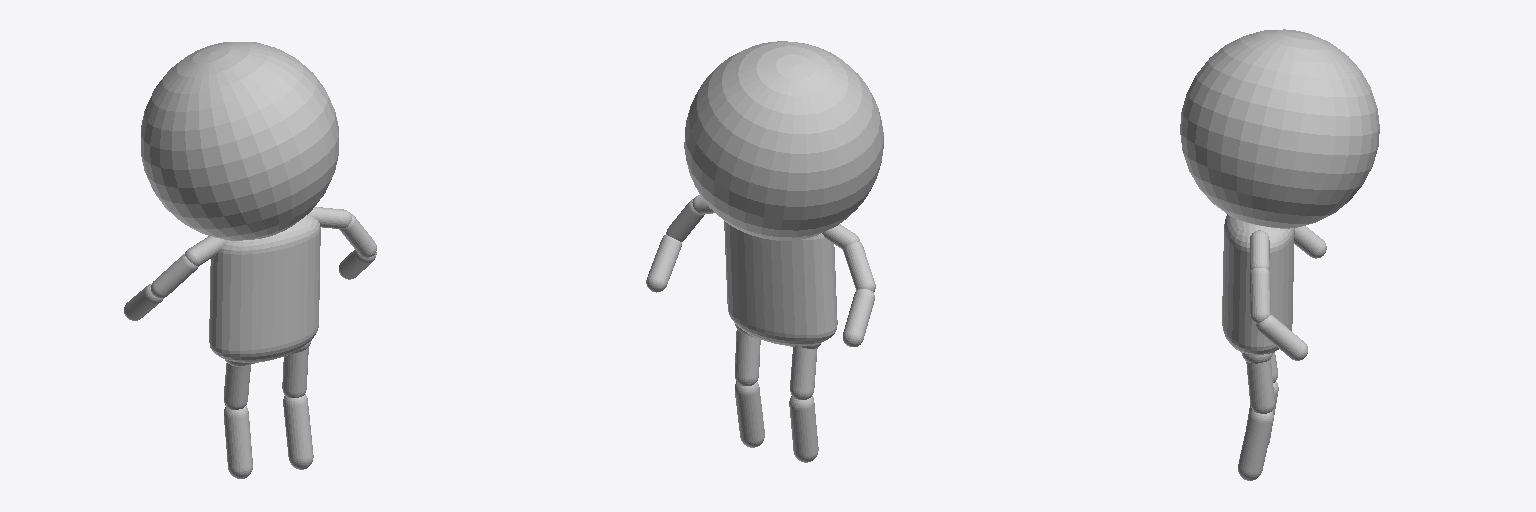
File: Stickman_000076.obj
The picture shows the model from 3 angles: view 1: azimuth 30°, elevation 25°; view 2: azimuth 150°, elevation 25°; view 3: azimuth 270°, elevation 25°; orthographic projection.
Parts seen in each view (by area): view 1: Head_Sphere.001, Body_Roundcube.002, LowerLegLeft_Roundcube.013, LowerLegRight_Roundcube.011, UpperLegLeft_Roundcube.012, UpperLegRight_Roundcube.010, UpperArmRight_Roundcube.015, UpperArmLeft_Roundcube.018, LowerArmRight_Roundcube.016, ShoulderRight_Roundcube.014, ShoulderLeft_Roundcube.017, LowerArmLeft_Roundcube.019; view 2: Head_Sphere.001, Body_Roundcube.002, LowerLegRight_Roundcube.011, LowerLegLeft_Roundcube.013, UpperLegRight_Roundcube.010, LowerArmRight_Roundcube.016, UpperLegLeft_Roundcube.012, LowerArmLeft_Roundcube.019, UpperArmRight_Roundcube.015, UpperArmLeft_Roundcube.018; view 3: Head_Sphere.001, Body_Roundcube.002, LowerLegLeft_Roundcube.013, UpperLegLeft_Roundcube.012, LowerArmLeft_Roundcube.019, UpperArmLeft_Roundcube.018, ShoulderLeft_Roundcube.017, LowerArmRight_Roundcube.016.
Boxes of the visible parts, <box> form: Head_Sphere.001: <box>141,42,338,240</box>; Body_Roundcube.002: <box>209,214,320,362</box>; LowerLegLeft_Roundcube.013: <box>283,394,313,469</box>; LowerLegRight_Roundcube.011: <box>224,406,252,478</box>; UpperLegLeft_Roundcube.012: <box>282,347,308,397</box>; UpperLegRight_Roundcube.010: <box>224,363,250,409</box>; UpperArmRight_Roundcube.015: <box>151,254,198,298</box>; UpperArmLeft_Roundcube.018: <box>339,213,376,257</box>; LowerArmRight_Roundcube.016: <box>124,284,163,320</box>; ShoulderRight_Roundcube.014: <box>185,236,226,265</box>; ShoulderLeft_Roundcube.017: <box>309,207,351,228</box>; LowerArmLeft_Roundcube.019: <box>339,250,376,279</box>; Head_Sphere.001: <box>684,41,883,240</box>; Body_Roundcube.002: <box>724,221,837,345</box>; LowerLegRight_Roundcube.011: <box>789,396,818,462</box>; LowerLegLeft_Roundcube.013: <box>735,381,764,447</box>; UpperLegRight_Roundcube.010: <box>790,346,817,399</box>; LowerArmRight_Roundcube.016: <box>843,289,874,346</box>; UpperLegLeft_Roundcube.012: <box>735,330,760,385</box>; LowerArmLeft_Roundcube.019: <box>646,234,681,292</box>; UpperArmRight_Roundcube.015: <box>843,241,875,291</box>; UpperArmLeft_Roundcube.018: <box>666,199,704,241</box>; Head_Sphere.001: <box>1180,29,1379,228</box>; Body_Roundcube.002: <box>1222,214,1294,354</box>; LowerLegLeft_Roundcube.013: <box>1238,410,1273,480</box>; UpperLegLeft_Roundcube.012: <box>1246,359,1274,413</box>; LowerArmLeft_Roundcube.019: <box>1256,315,1307,360</box>; UpperArmLeft_Roundcube.018: <box>1250,268,1270,323</box>; ShoulderLeft_Roundcube.017: <box>1250,230,1269,270</box>; LowerArmRight_Roundcube.016: <box>1294,226,1326,258</box>.
Size of the model in its own units: 7.35 by 13.04 by 5.65.